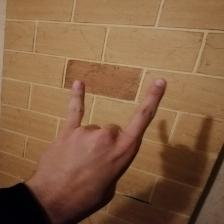five: (41, 76, 170, 201)
